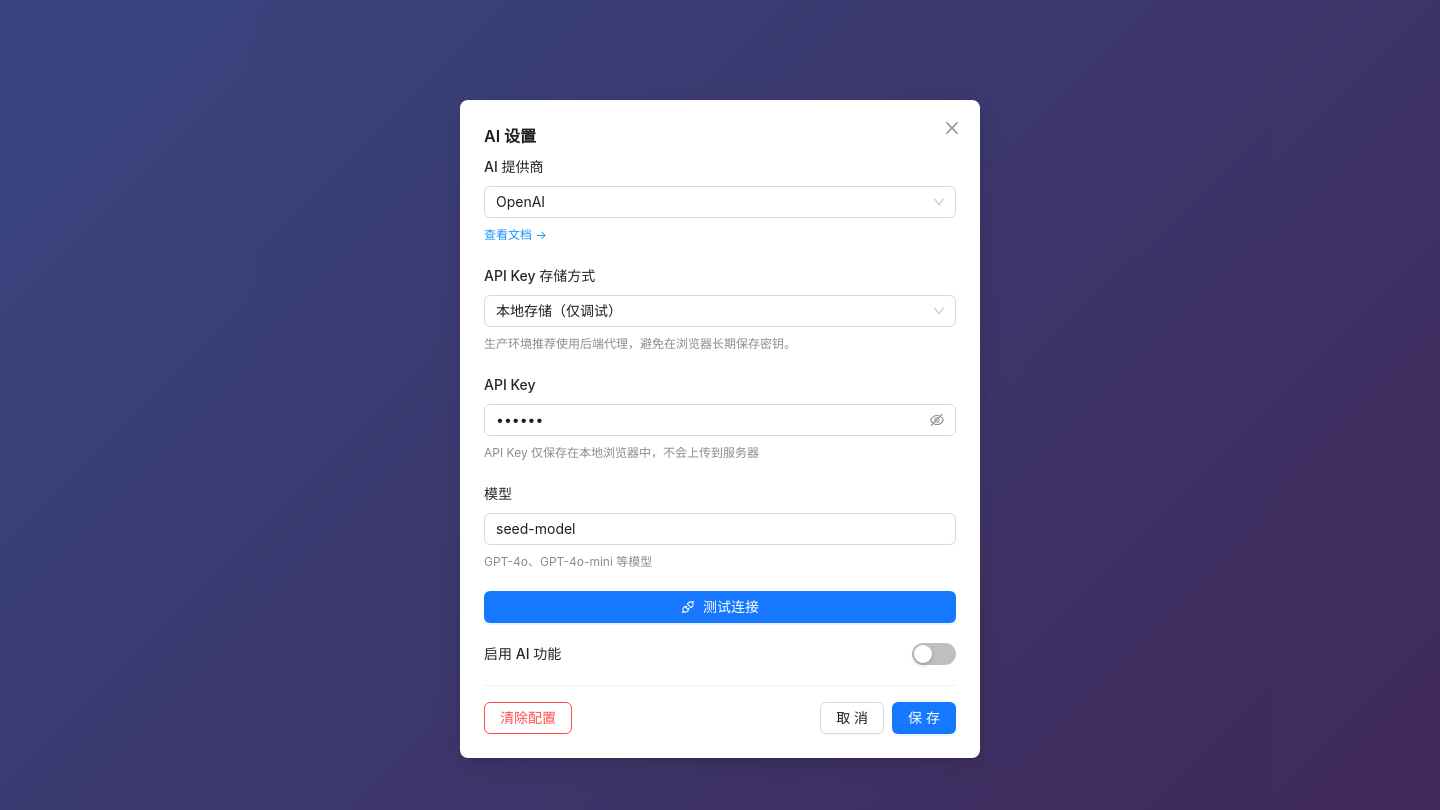
AiSettingsModal 连接测试的四种结果 › 失败时优先显示提供商回的原始错误，而不是笼统的失败文案
This screenshot has width=1440, height=810.
Click the button "测试连接" at coordinates (720, 607), box [484,591,956,623]
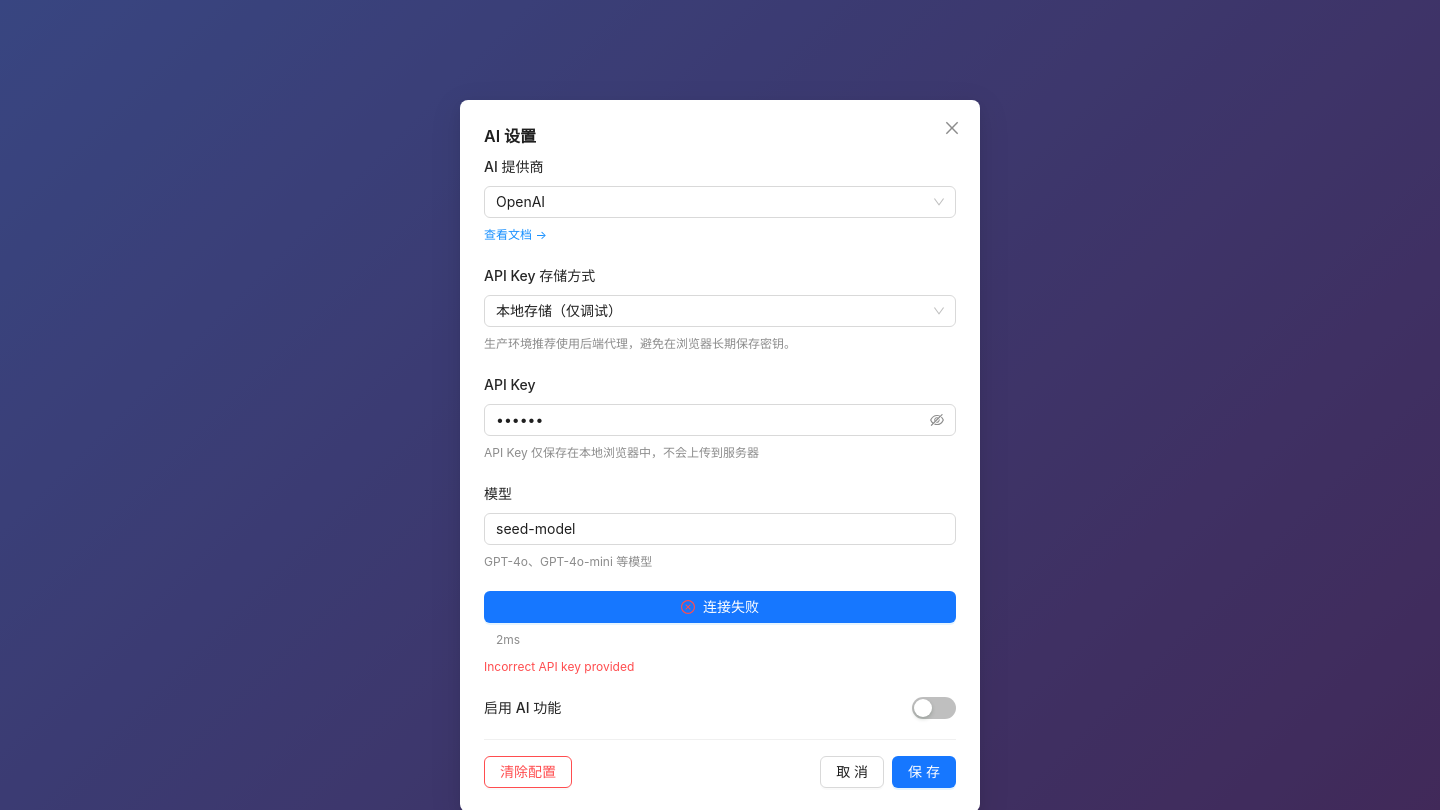
Now the text with class "ai-settings__error" reads "Incorrect API key provided", box [484,659,634,674]
